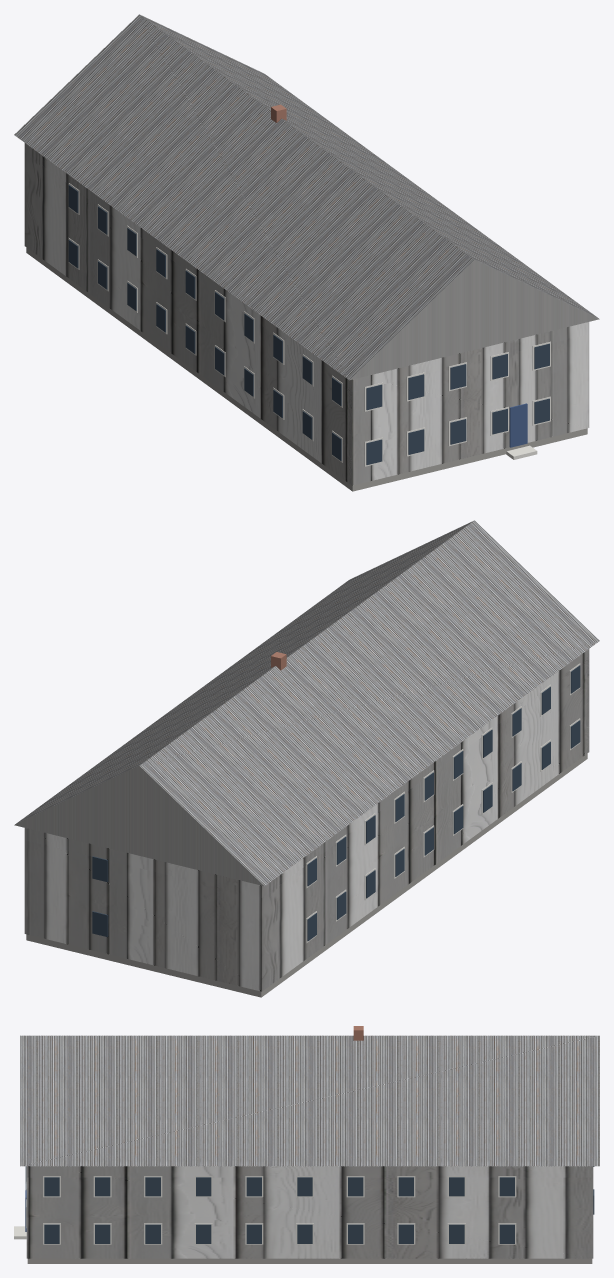
The model's file is asset.glb.
3 renders of one model, top to bottom at view 1: azimuth 30°, elevation 25°; view 2: azimuth 150°, elevation 25°; view 3: azimuth 270°, elevation 25°, orthographic. The views are drawn at different scales.
Parts seen in each view (by area): view 1: roof, body, gable_end, foundation, door; view 2: roof, body, gable_end, foundation; view 3: roof, body, foundation.
Boxes of the visible parts, x1,y1,x2,y2 form: roof: (14, 14, 598, 380); body: (24, 143, 589, 485); gable_end: (350, 260, 599, 379); foundation: (26, 247, 587, 491); door: (509, 403, 527, 447); roof: (15, 520, 599, 886); body: (24, 649, 589, 991); gable_end: (14, 766, 263, 885); foundation: (26, 753, 587, 997); roof: (20, 1035, 599, 1166); body: (26, 1166, 593, 1258); foundation: (27, 1258, 592, 1263).
Bounding box in the file's own units: 13.85 × 11.35 × 32.42.
Materials: 7 (2 with a texture image).
